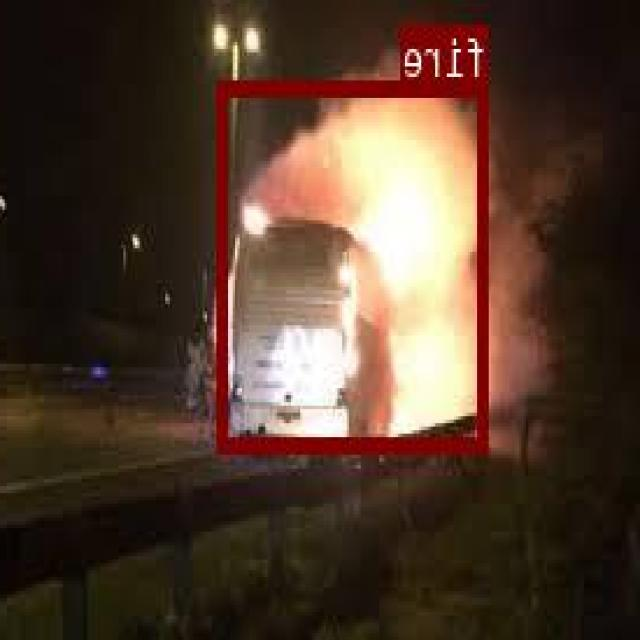fire: (219, 78, 489, 450)
